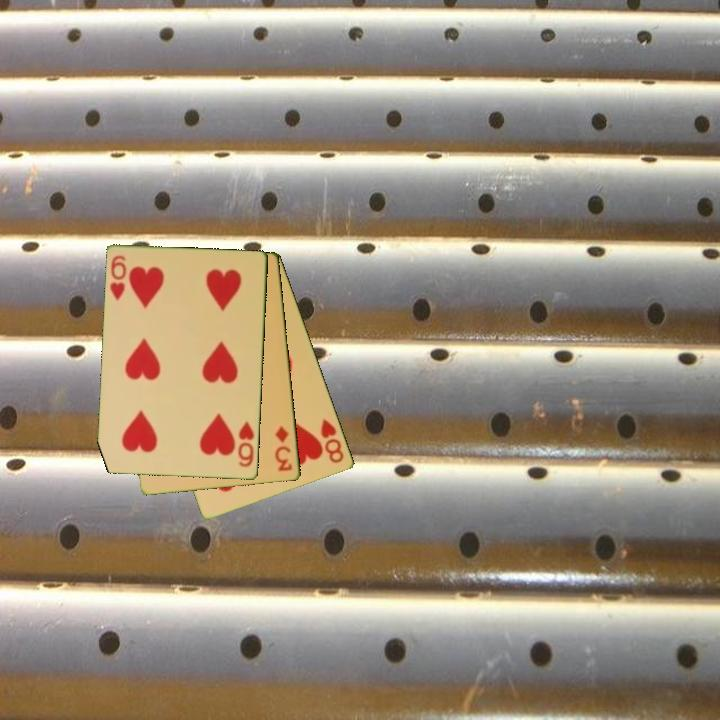3d: (272, 422, 295, 474)
6h: (235, 418, 257, 470), (107, 252, 129, 304)
8h: (317, 415, 347, 466)
